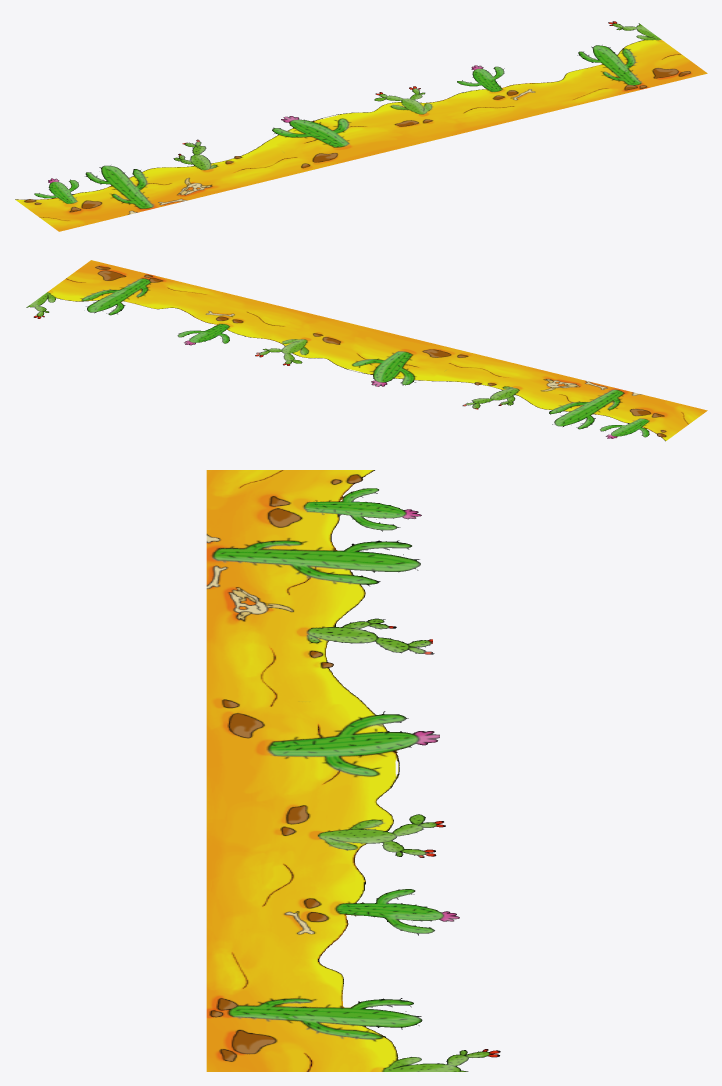
3 renders of one model, top to bottom at view 1: azimuth 30°, elevation 25°; view 2: azimuth 150°, elevation 25°; view 3: azimuth 270°, elevation 25°, orthographic. The views are drawn at different scales.
Parts seen in each view (by area): view 1: Titelloses_1_20210411231216; view 2: Titelloses_1_20210411231216; view 3: Titelloses_1_20210411231216.
Boxes of the visible parts, x1,y1,x2,y2 form: Titelloses_1_20210411231216: [15, 21, 707, 231]; Titelloses_1_20210411231216: [26, 260, 707, 441]; Titelloses_1_20210411231216: [206, 470, 500, 1071].
Size of the model in its own units: 162 by 5.73e-06 by 35.16.
1 material, 1 textured.
